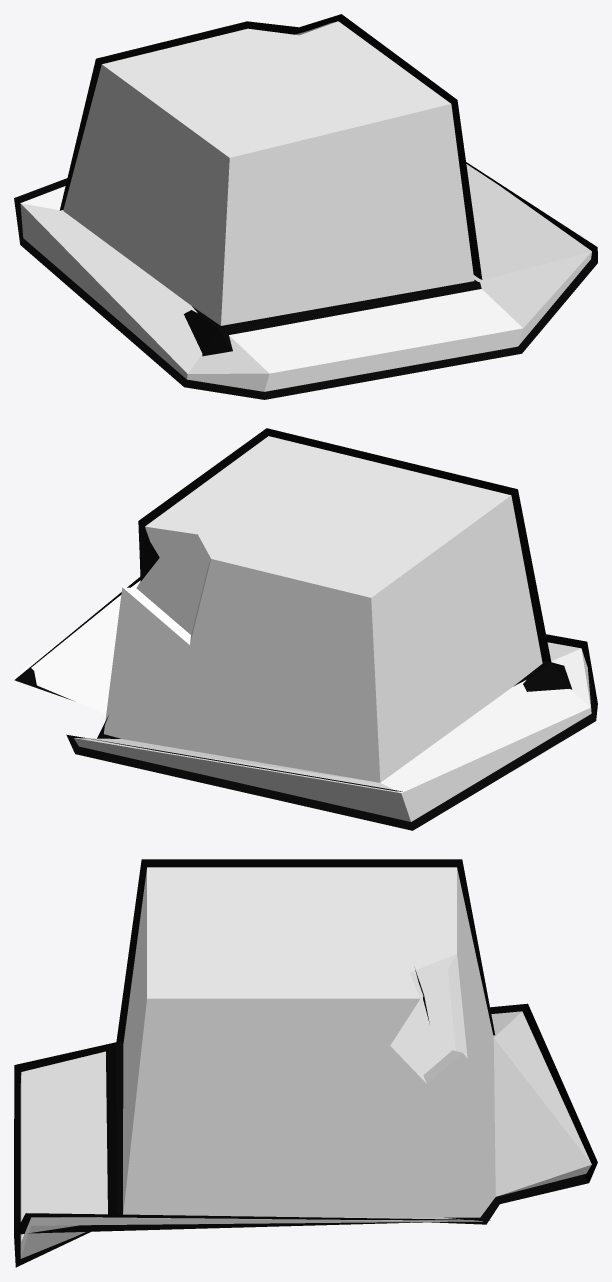
3 views of the same model, one above another, from view 1: azimuth 30°, elevation 25°; view 2: azimuth 150°, elevation 25°; view 3: azimuth 270°, elevation 25° (orthographic). The views are drawn at different scales.
Visible parts, largest first — view 1: 立方体; view 2: 立方体; view 3: 立方体.
Boxes of the visible parts, x1,y1,x2,y2 form: 立方体: (14,14,597,399); 立方体: (14,428,597,830); 立方体: (14,859,597,1267).
Size of the model in its own units: 0.4902 by 0.2704 by 0.5362.
